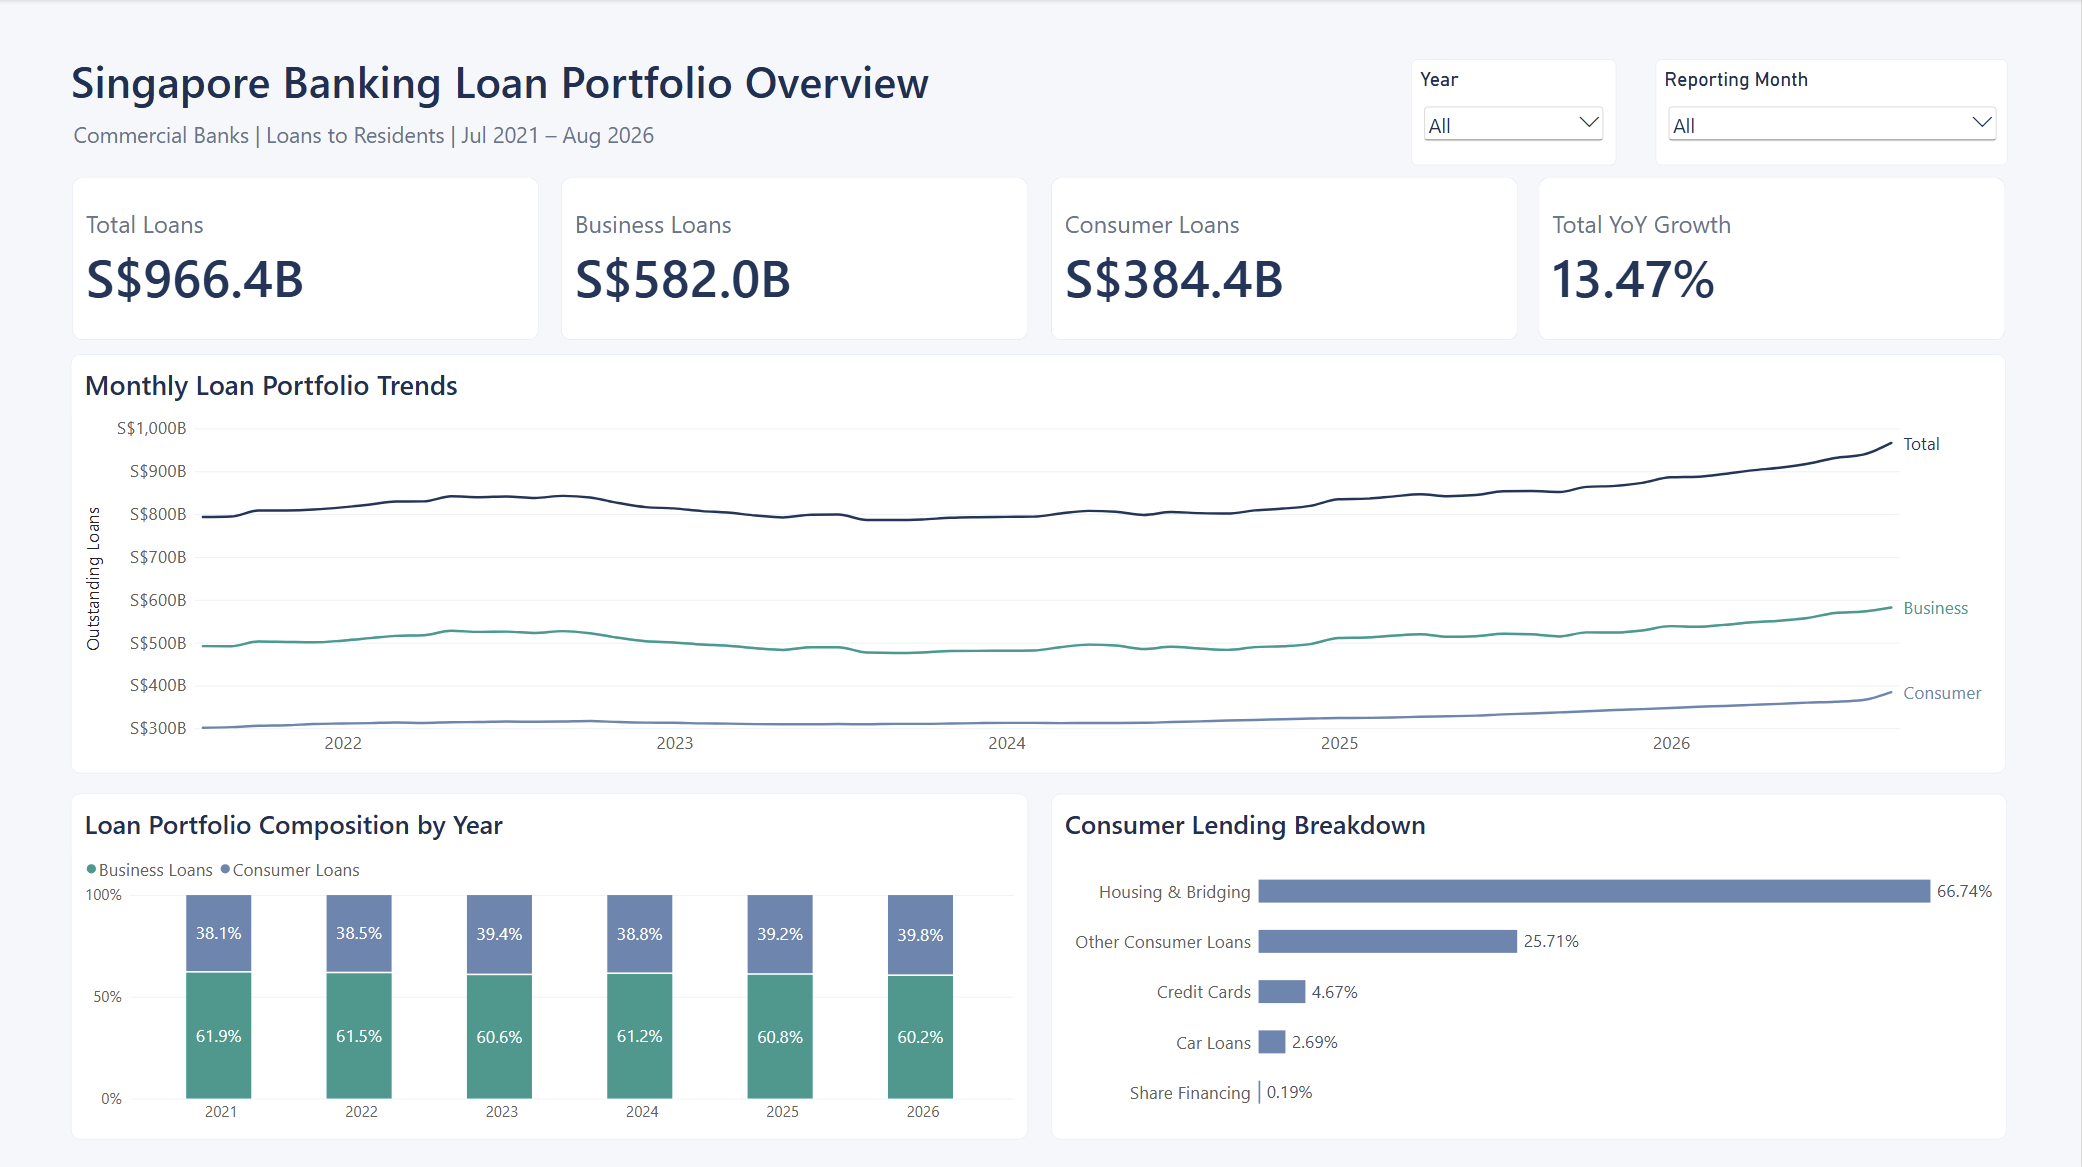

The page's visual inventory and layout, read from the dashboard file:
{"tool":"powerbi","page":{"name":"01 Portfolio Overview","canvas":[2560,1440],"ordinal":0},"visuals":[{"type":"textbox","box":[90,65,1900,85],"z":0},{"type":"textbox","box":[92,150,1850,55],"z":1000},{"type":"cardVisual","fields":{"Data":["DimCategory.Total Loans (S$B)"]},"box":[91.2,220,574,200],"z":2000},{"type":"cardVisual","fields":{"Data":["DimCategory.Business Loans (S$B)"]},"box":[692.3,220,574,200],"z":3000},{"type":"cardVisual","fields":{"Data":["FactLoans.Total YoY Growth (%)"]},"box":[1894.4,220,574,200],"z":4000},{"type":"cardVisual","fields":{"Data":["DimCategory.Consumer Loans (S$B)"]},"box":[1295.1,220,574,200],"z":5000},{"type":"slicer","title":"Year","fields":{"Values":["DimMonth.year"]},"box":[1737,75.1,252.2,130.6],"z":6000},{"type":"slicer","title":"Reporting Month","fields":{"Values":["DimMonth.year_month"]},"box":[2037.5,75.1,432.9,130.6],"z":7000},{"type":"lineChart","title":"Monthly Loan Portfolio Trends","fields":{"Category":["DimMonth.period_end"],"Y":["DimCategory.Business Loans (S$B)","DimCategory.Consumer Loans (S$B)","DimCategory.Total Loans (S$B)"]},"box":[89.4,438.3,2379.2,515.2],"z":8000},{"type":"hundredPercentStackedColumnChart","title":"Loan Portfolio Composition by Year","fields":{"Category":["DimMonth.year"],"Y":["FactLoans.Business Loans (S$M)","FactLoans.Consumer Loans (S$M)"]},"box":[89.4,978.5,1177.1,425.7],"z":9000},{"type":"clusteredBarChart","title":"Consumer Lending Breakdown","fields":{"Category":["DimCategory.display_name"],"Y":["FactLoans.Consumer Category Share (%)"]},"box":[1295.1,978.5,1175.3,425.7],"z":10000}]}

Visuals, with their boxes in screenshot pixels (x1, y1, x2, y2), scaled from the page's 2560x1440 canvas onto the 2082x1167 screenshot:
textbox: box(73, 53, 1618, 122)
textbox: box(75, 122, 1579, 166)
cardVisual - DimCategory.Total Loans (S$B): box(74, 178, 541, 340)
cardVisual - DimCategory.Business Loans (S$B): box(563, 178, 1030, 340)
cardVisual - FactLoans.Total YoY Growth (%): box(1541, 178, 2008, 340)
cardVisual - DimCategory.Consumer Loans (S$B): box(1053, 178, 1520, 340)
"Year" slicer: box(1413, 61, 1618, 167)
"Reporting Month" slicer: box(1657, 61, 2009, 167)
"Monthly Loan Portfolio Trends" lineChart: box(73, 355, 2008, 773)
"Loan Portfolio Composition by Year" hundredPercentStackedColumnChart: box(73, 793, 1030, 1138)
"Consumer Lending Breakdown" clusteredBarChart: box(1053, 793, 2009, 1138)
